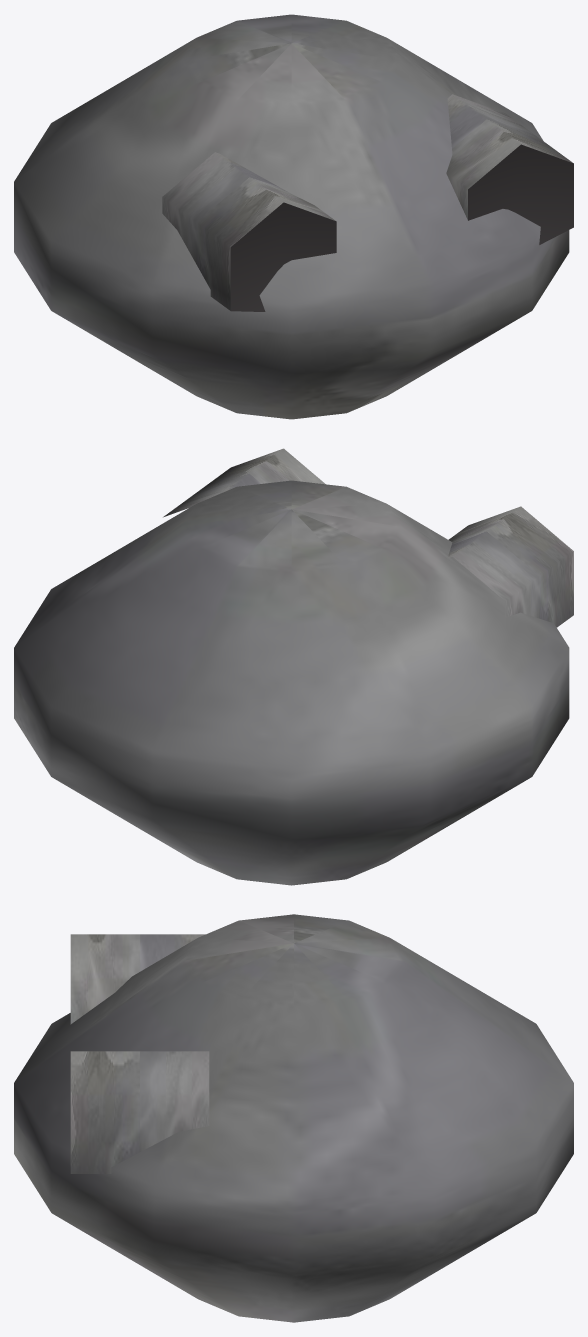
File: dischead_med.gltf
The picture shows the model from 3 angles, top to bottom: view 1: azimuth 30°, elevation 25°; view 2: azimuth 150°, elevation 25°; view 3: azimuth 270°, elevation 25°; orthographic projection.
Visible parts, largest first — view 1: Mesh_0, Mesh_3, Mesh_1, Mesh_2; view 2: Mesh_0, Mesh_1, Mesh_2; view 3: Mesh_0, Mesh_2, Mesh_1.
Part boxes in pixels (<box>): Mesh_0: <box>14,14,569,419</box>; Mesh_3: <box>230,144,573,311</box>; Mesh_1: <box>162,152,335,310</box>; Mesh_2: <box>446,94,573,219</box>; Mesh_0: <box>14,480,569,885</box>; Mesh_1: <box>447,506,573,627</box>; Mesh_2: <box>163,448,325,517</box>; Mesh_0: <box>14,914,573,1322</box>; Mesh_2: <box>70,1051,209,1173</box>; Mesh_1: <box>70,934,205,1024</box>.
Bounding box in the file's own units: 0.7247 × 0.4999 × 0.7247.
2 materials, 2 textured.
